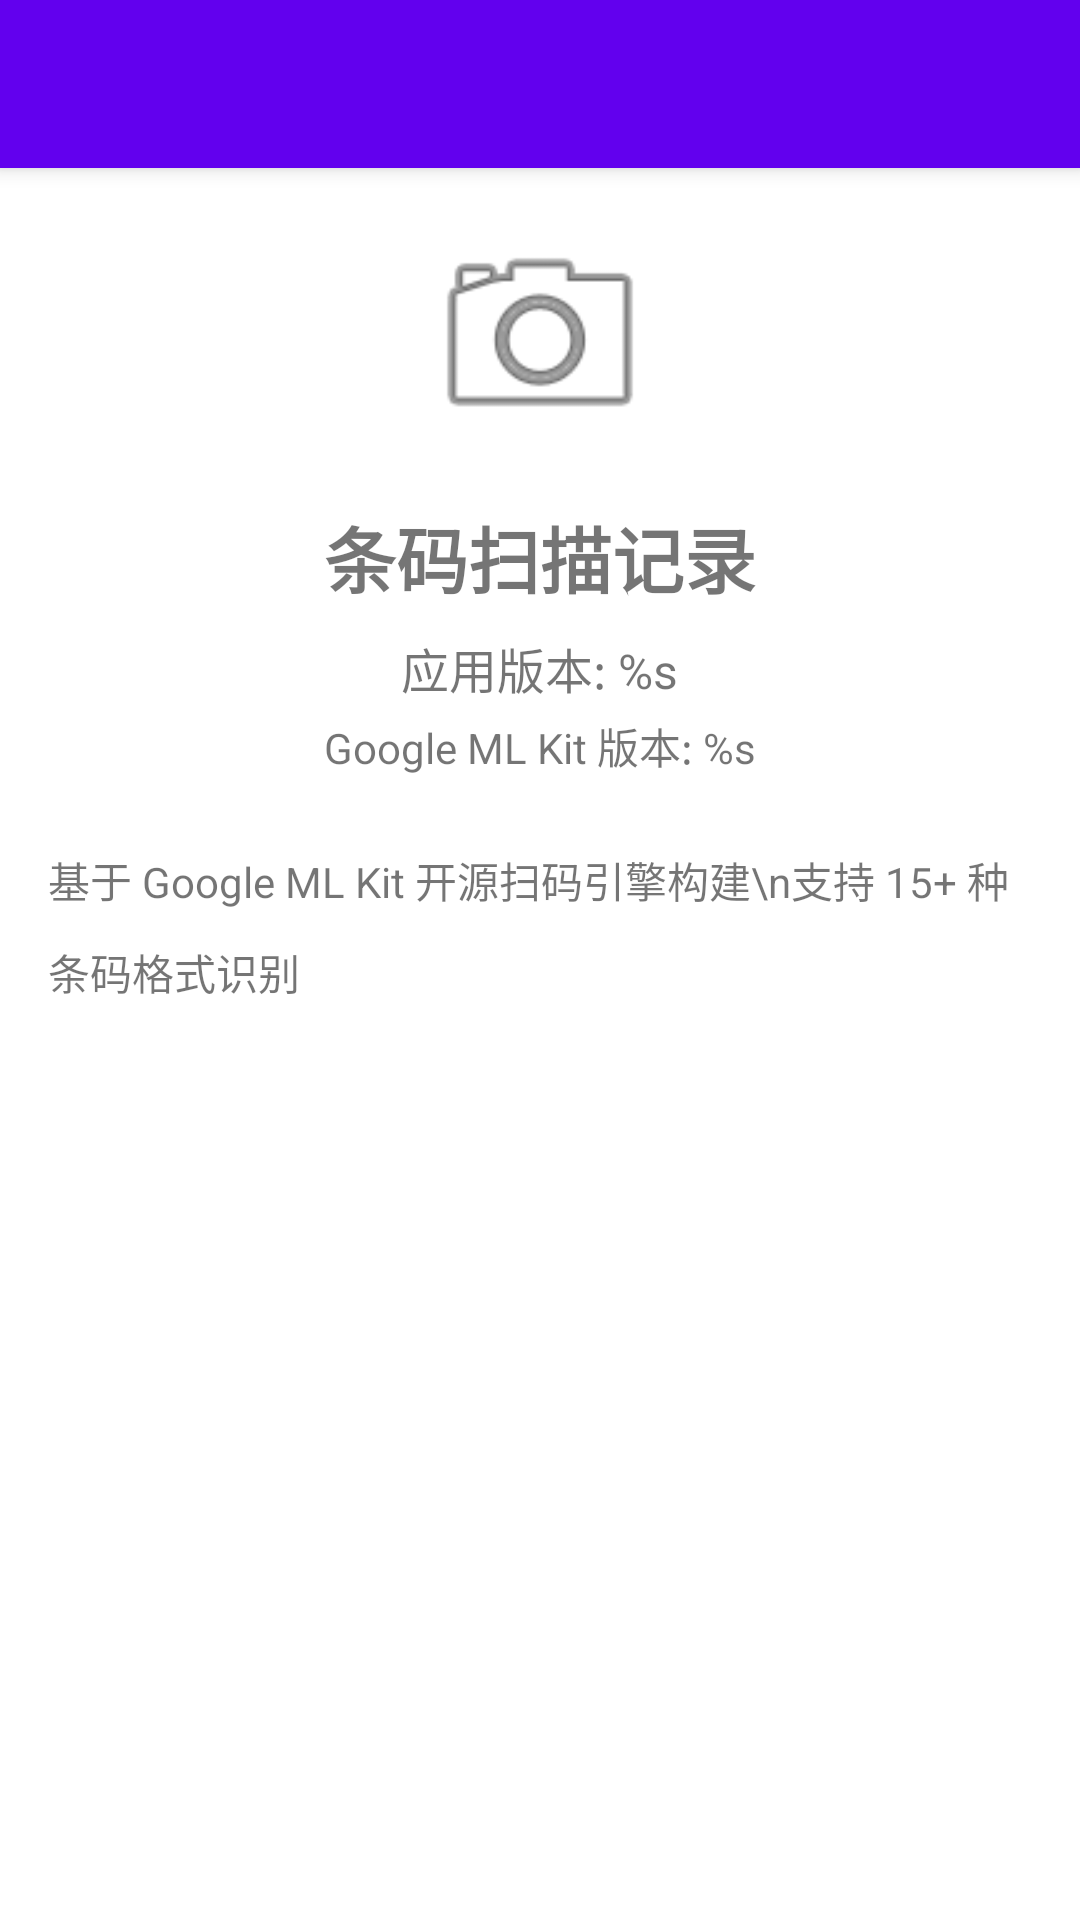

Icon click points for this 1080px x 1920px phone screenshot, format [x,y]:
camera: [540,332]
